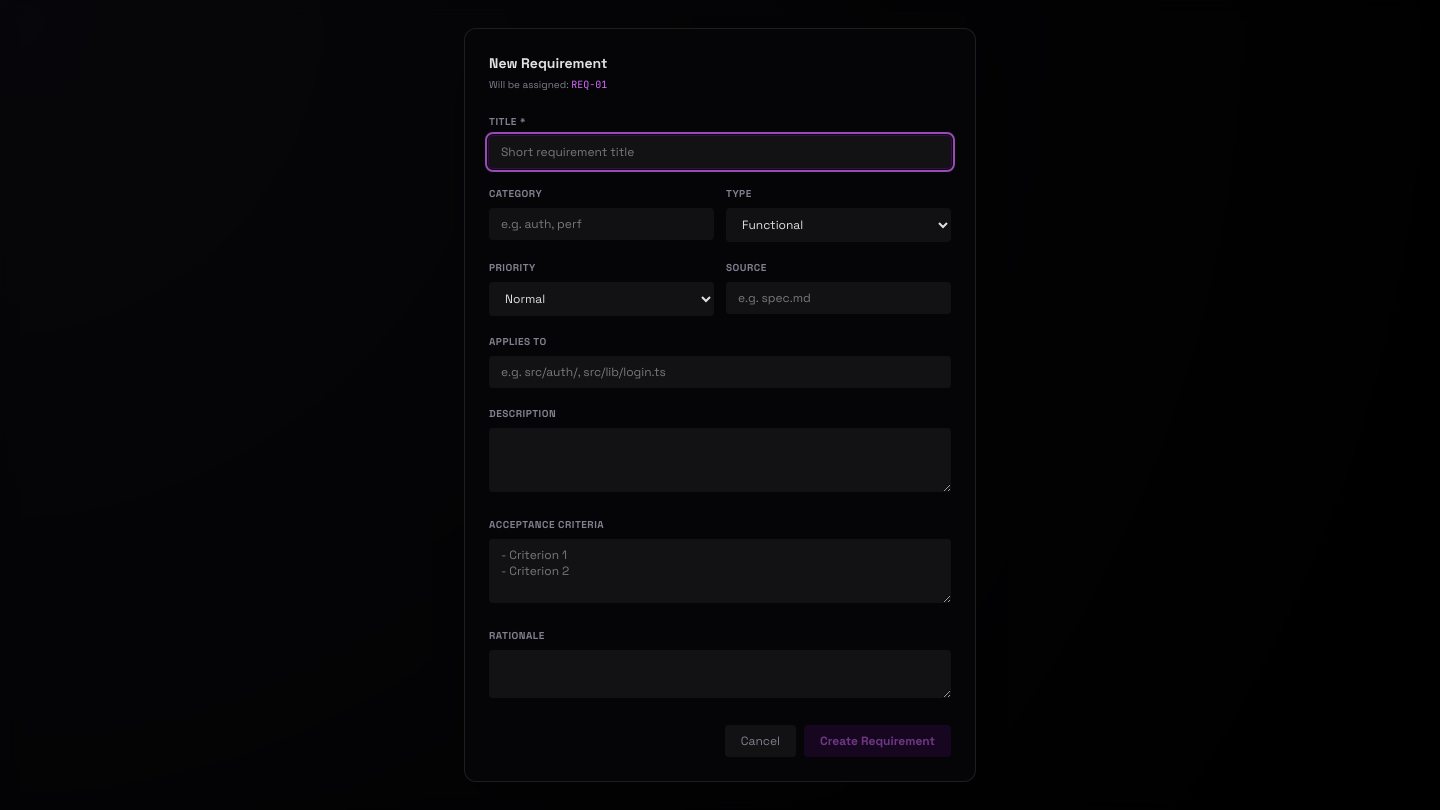
RequirementCreateDialog › reqId preview updates when category typed: "REQ-AUTH-01"
The width and height of the screenshot is (1440, 810).
Step 1. Type "auth" into the field with test id "create-category-input" → (602, 224), box [489,208,714,240]
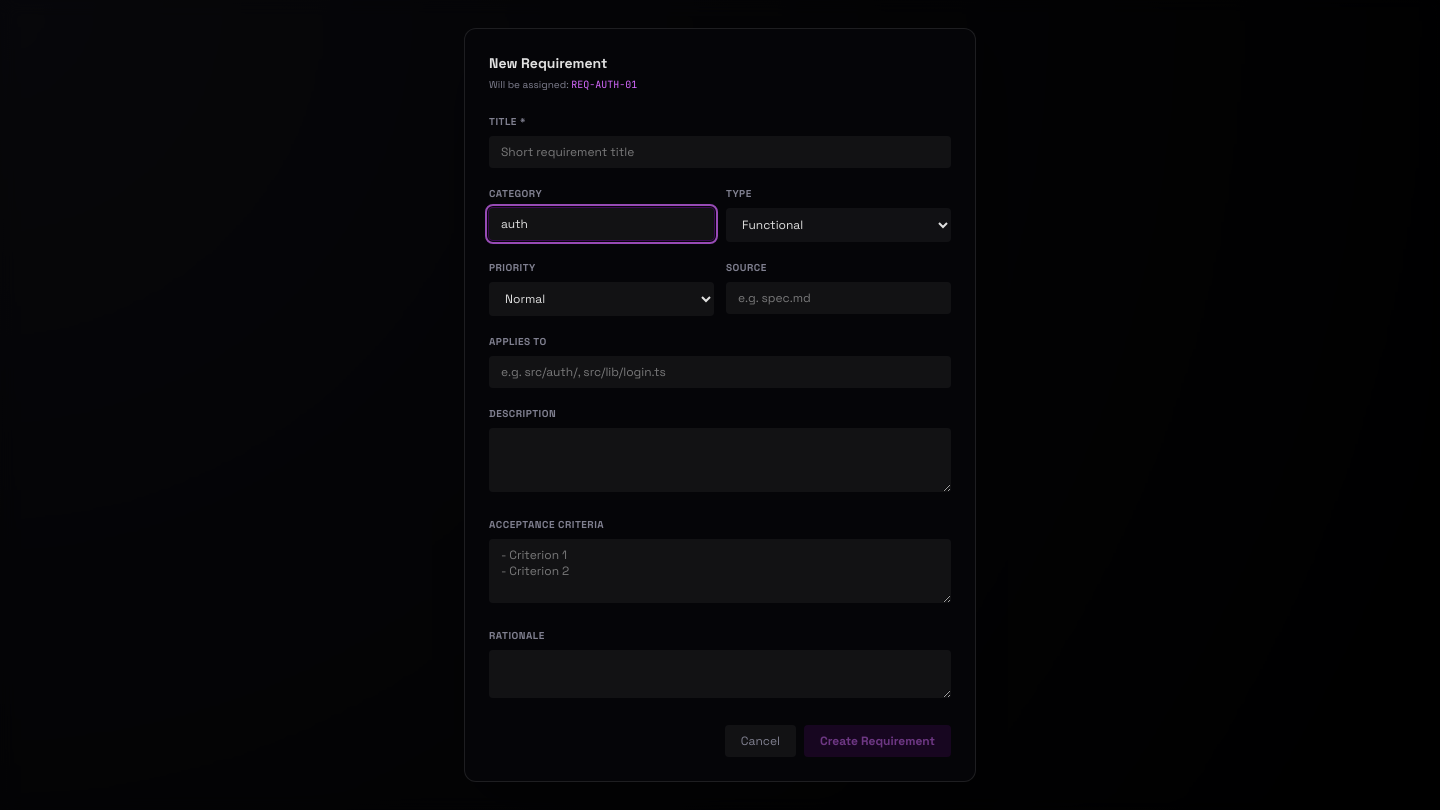
Expected: the text "REQ-AUTH-01" is shown, [571,78,637,91]
